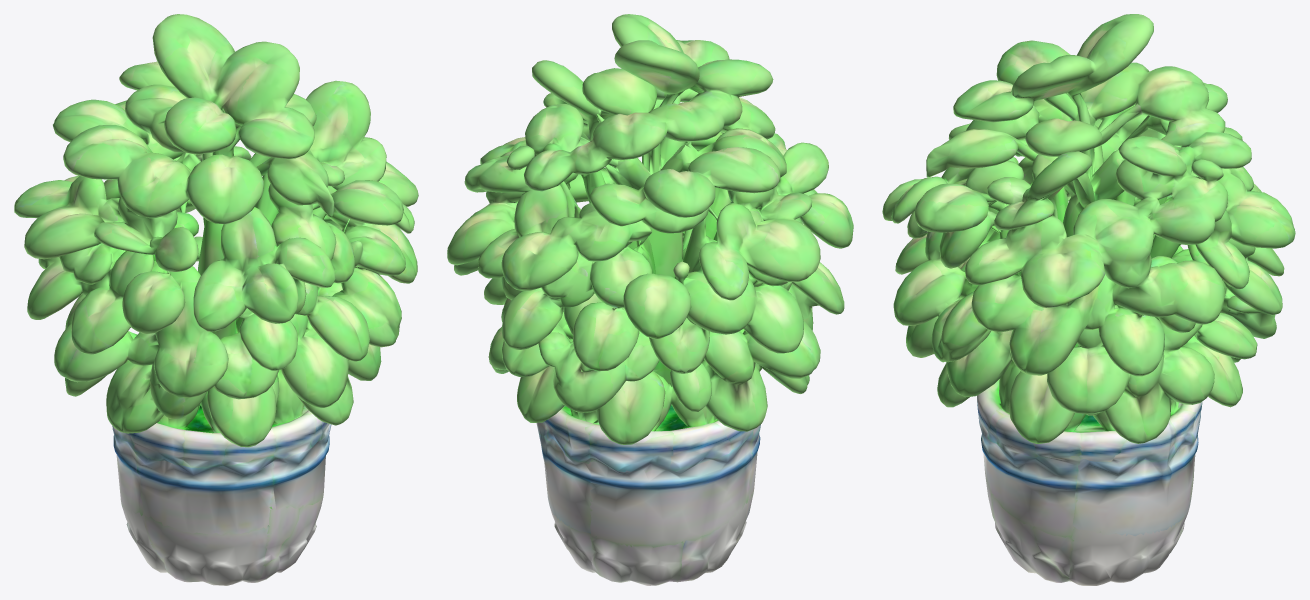
The model's file is plant.glb.
3 views of the same model, side by side, from view 1: azimuth 30°, elevation 25°; view 2: azimuth 150°, elevation 25°; view 3: azimuth 270°, elevation 25° (orthographic).
Size of the model in its own units: 1.34 by 1.9 by 1.35.
Materials: 1 (1 with a texture image).
